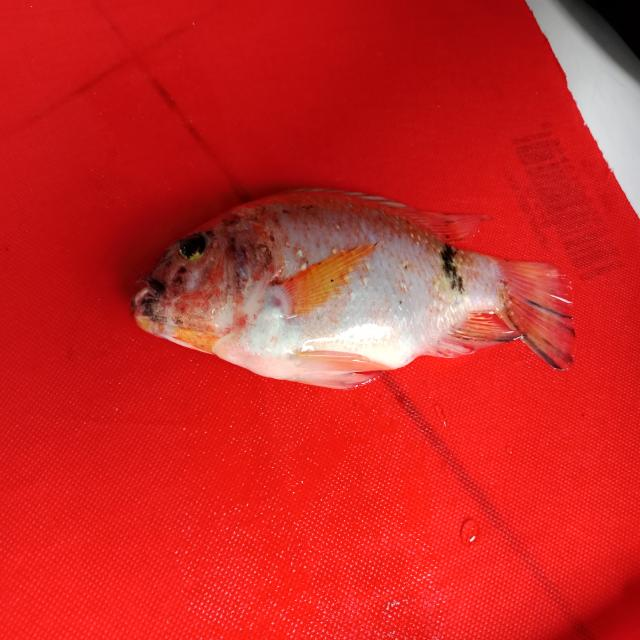ikan: (112, 159, 592, 406)
